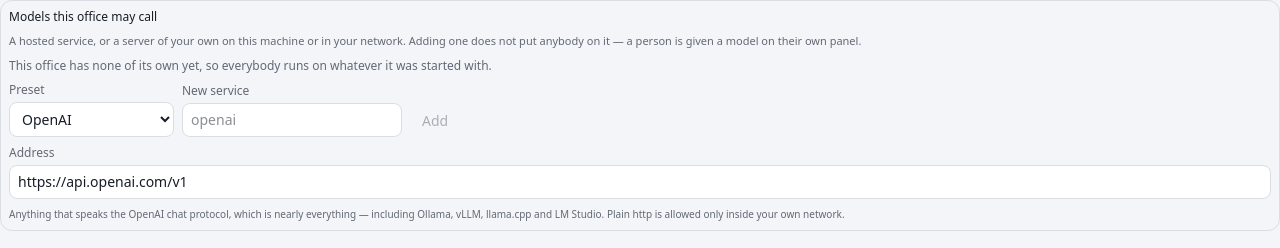
Scenario: the services an office can call a model on › offers a local server, which needs no key at all
Select "A server of my own" in the dropdown labelled "Preset" at (92, 119), box [9, 102, 174, 136]
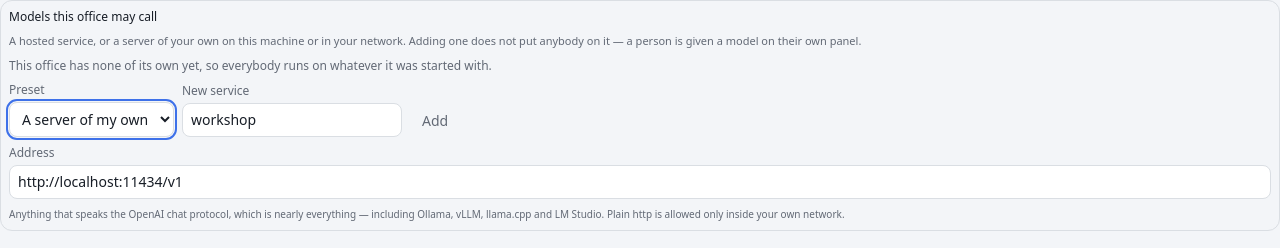
Expected: the field labelled "Address" holds "http://localhost:11434/v1", [9, 164, 1271, 198]
